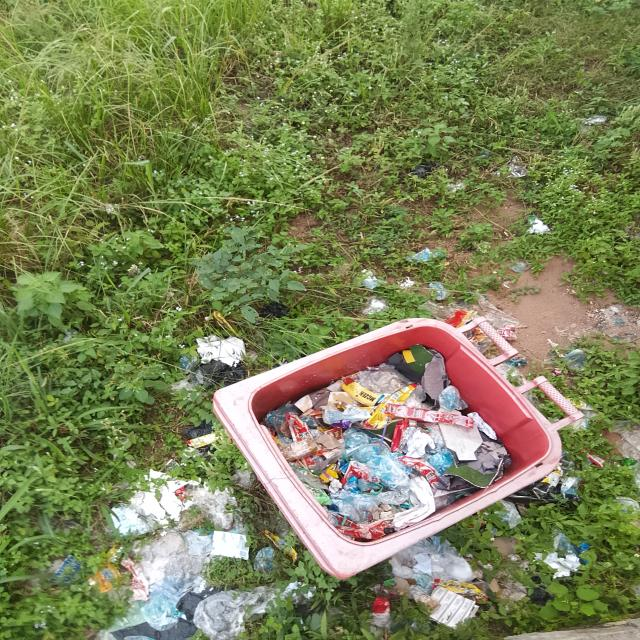half-full: (225, 316, 565, 568)
